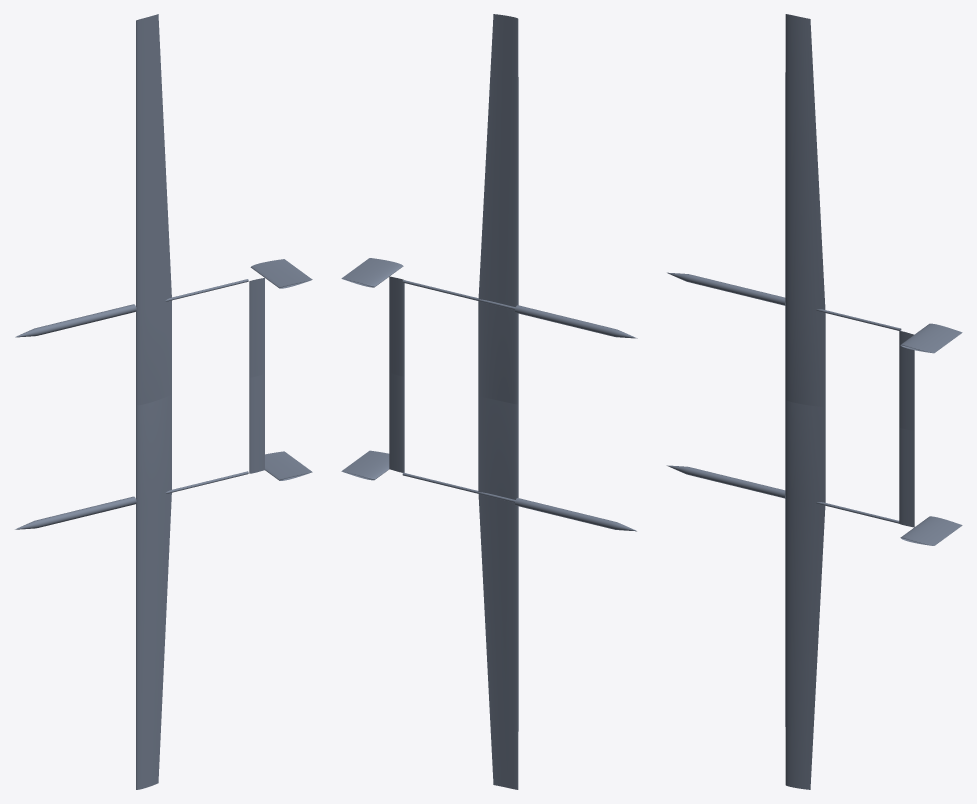
3 views of the same model, side by side, from view 1: azimuth 30°, elevation 25°; view 2: azimuth 150°, elevation 25°; view 3: azimuth 330°, elevation 25° (orthographic).
Visible parts, largest first — view 1: run_h6ue; view 2: run_h6ue; view 3: run_h6ue.
Part boxes in pixels (<box>): run_h6ue: <box>15,14,312,789</box>; run_h6ue: <box>341,14,637,789</box>; run_h6ue: <box>666,14,962,789</box>.
Size of the model in its own units: 2.3 by 5.98 by 0.3999.
